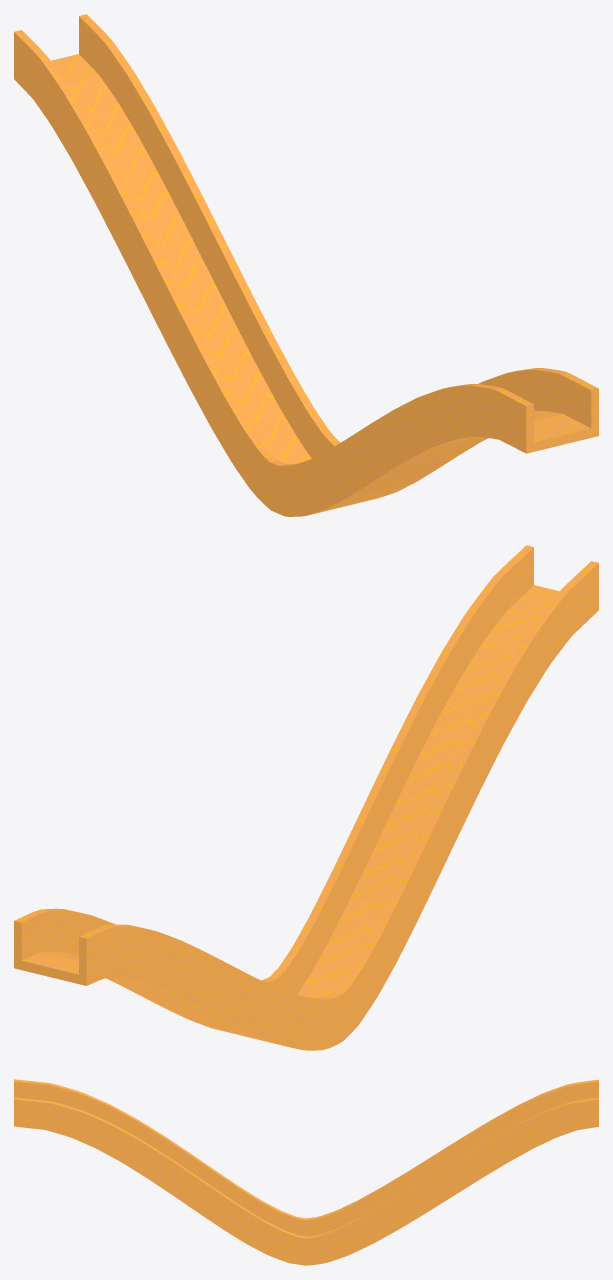
File: rampCurvedU.glb
3 renders of one model, top to bottom at view 1: azimuth 30°, elevation 25°; view 2: azimuth 150°, elevation 25°; view 3: azimuth 270°, elevation 25°, orthographic. The views are drawn at different scales.
Visible parts, largest first — view 1: rampCurvedU; view 2: rampCurvedU; view 3: rampCurvedU.
Part boxes in pixels (left/top/right/bottom): rampCurvedU: left=14, top=14, right=598, bottom=516; rampCurvedU: left=14, top=545, right=598, bottom=1050; rampCurvedU: left=14, top=1079, right=598, bottom=1265.
Size of the model in its own units: 0.5 by 1.92 by 6.12.
Materials: 1 (1 with a texture image).
